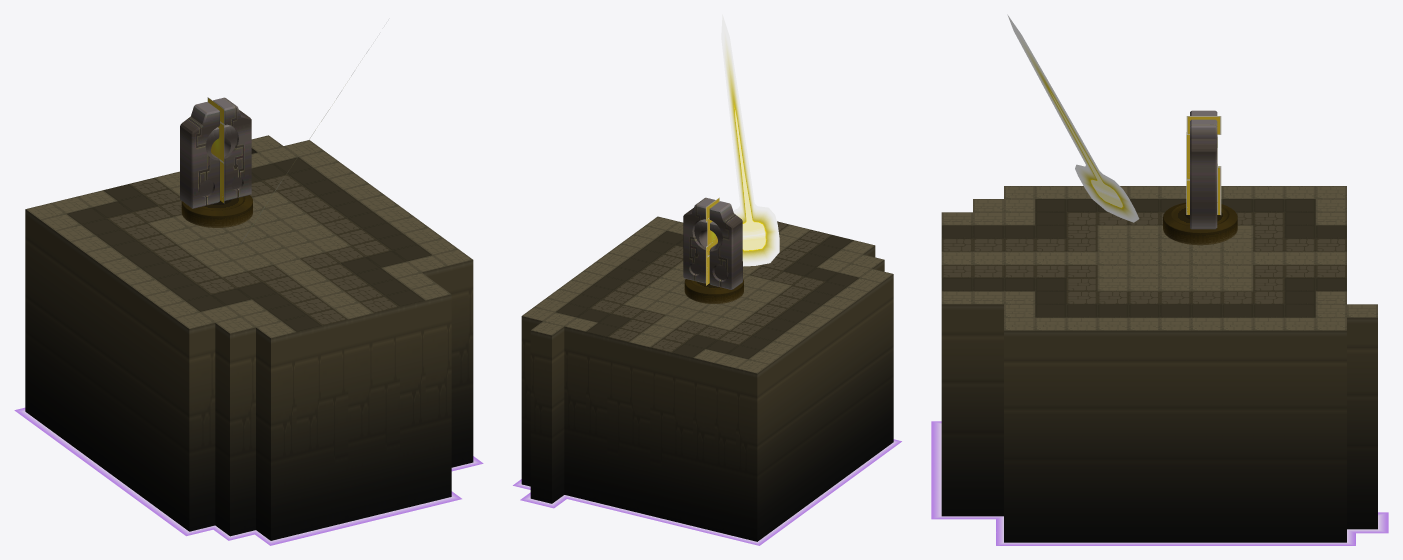
Rendered from room_puzzle.fbx.
3 views of the same model, side by side, from view 1: azimuth 30°, elevation 25°; view 2: azimuth 150°, elevation 25°; view 3: azimuth 270°, elevation 25° (orthographic). The views are drawn at different scales.
Parts seen in each view (by area): view 1: base (×2), piece_target (1), shadow, piece_target (2); view 2: base (×2), fx_light_item, piece_target (1), shadow, piece_target (2); view 3: base (×2), shadow, piece_target (1), fx_light_item.
Part boxes in pixels (x1=…): base (×2): x1=25, y1=135, x2=473, y2=540; piece_target (1): x1=180, y1=97, x2=251, y2=208; shadow: x1=14, y1=407, x2=483, y2=545; piece_target (2): x1=199, y1=124, x2=242, y2=196; base (×2): x1=521, y1=216, x2=893, y2=541; fx_light_item: x1=721, y1=14, x2=779, y2=266; piece_target (1): x1=683, y1=197, x2=742, y2=289; shadow: x1=513, y1=439, x2=901, y2=545; piece_target (2): x1=694, y1=219, x2=722, y2=276; base (×2): x1=941, y1=186, x2=1377, y2=542; shadow: x1=931, y1=421, x2=1388, y2=545; piece_target (1): x1=1190, y1=110, x2=1217, y2=229; fx_light_item: x1=1007, y1=14, x2=1139, y2=222.
Size of the model in its own units: 11.53 by 17.28 by 14.68.
Materials: 7 (7 with a texture image).
